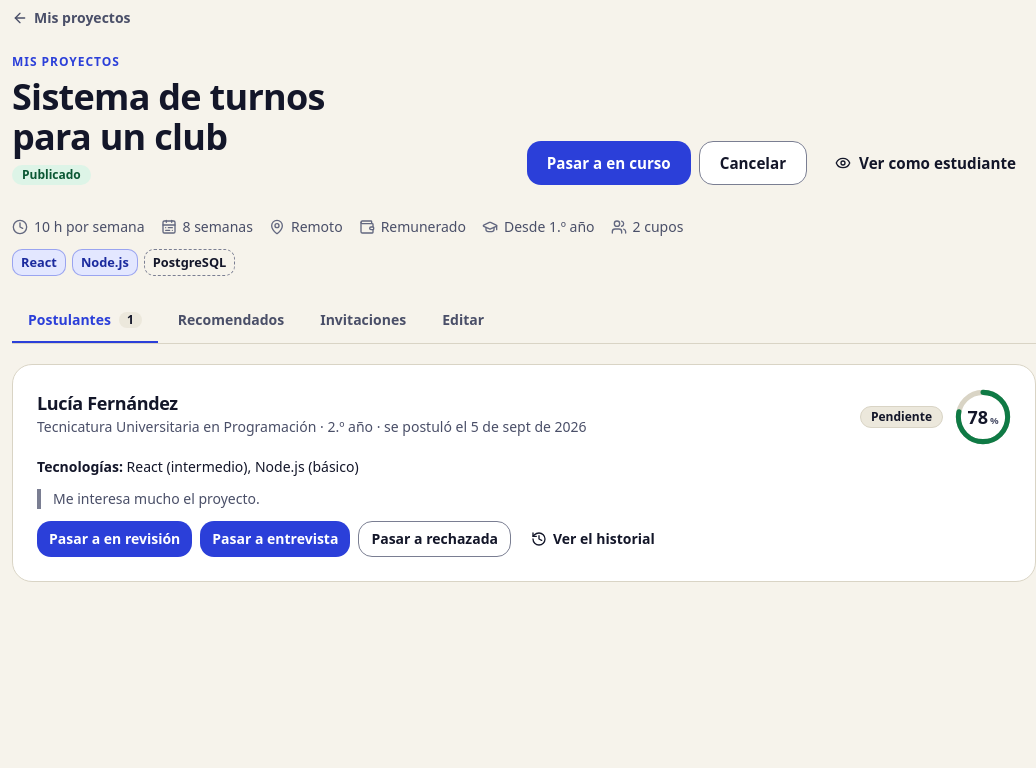
Test: GestionProyectoPage › lista las invitaciones enviadas con su estado
The image size is (1036, 768).
Click the tab "Invitaciones" at (363, 322), box [304, 300, 422, 344]
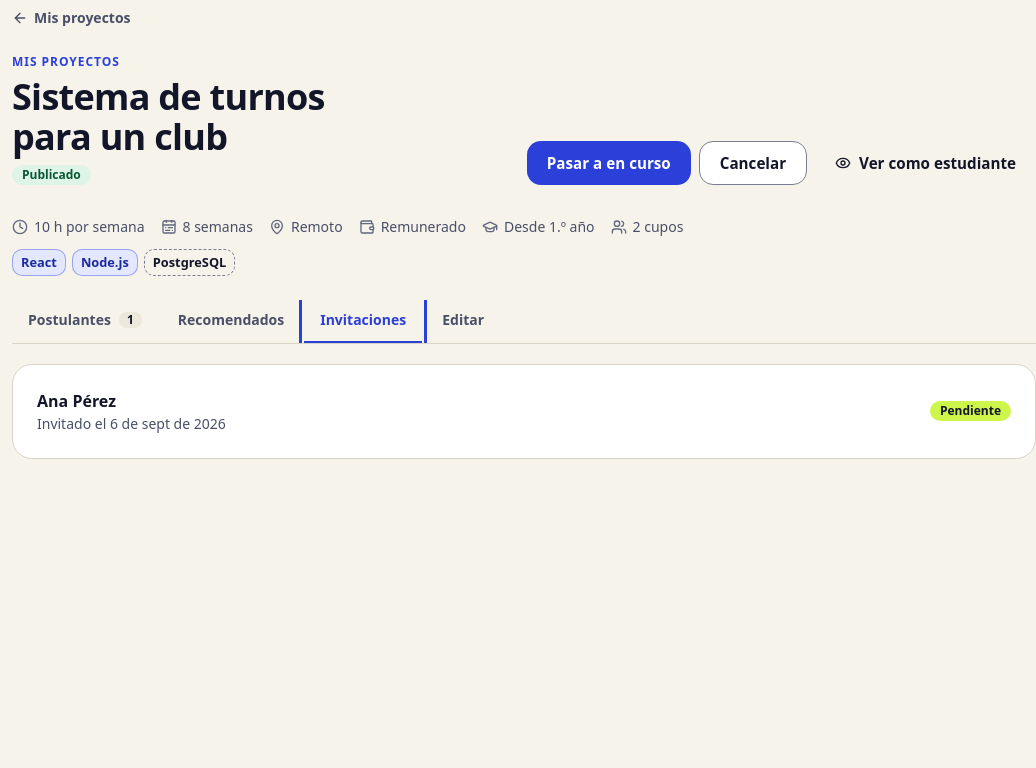
expect the text "Pendiente" is shown: met, box [930, 402, 1011, 422]
expect the text "Ana Pérez" is shown: met, box [37, 390, 116, 412]
